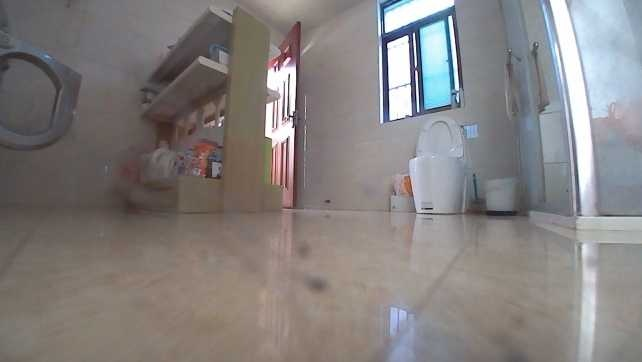door_anno: (265, 19, 302, 209)
toilet: (404, 114, 473, 219)
